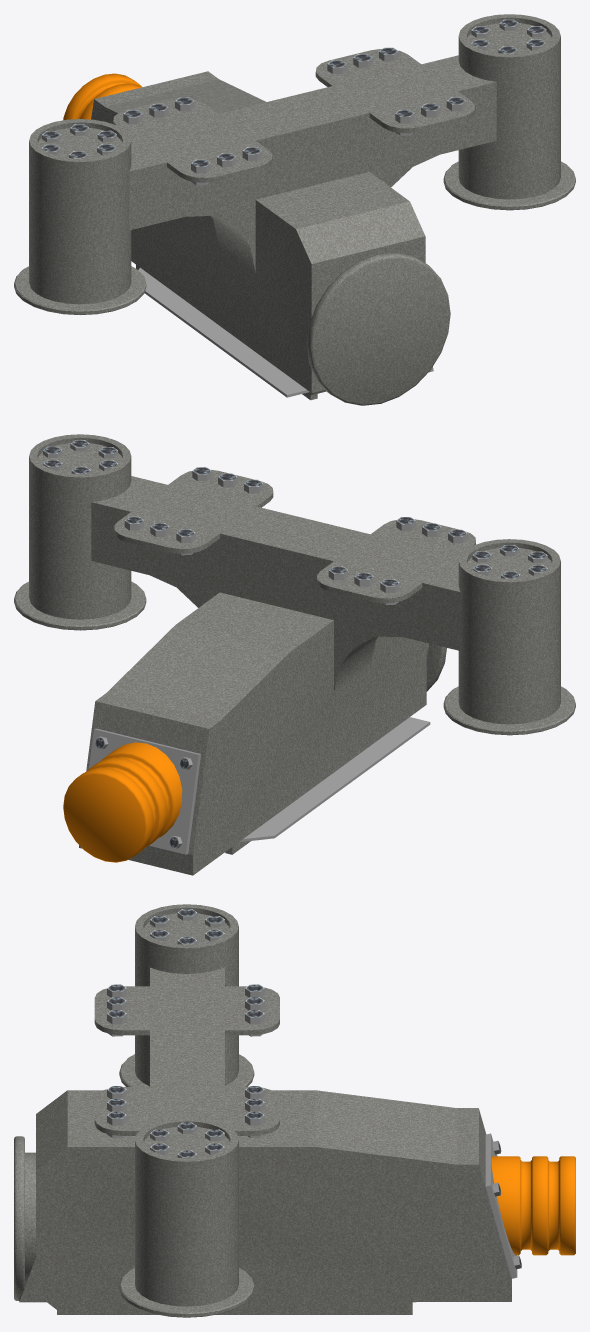
Rendered from Zerocar.dae.
3 renders of one model, top to bottom at view 1: azimuth 30°, elevation 25°; view 2: azimuth 150°, elevation 25°; view 3: azimuth 270°, elevation 25°, orthographic.
Visible parts, largest first — view 1: Zerocar_2 (×10); view 2: Zerocar_2 (×13); view 3: Zerocar_2 (×14).
Boxes of the visible parts, x1,y1,x2,y2 form: Zerocar_2 (×10): (14,14,575,405); Zerocar_2 (×13): (14,434,575,875); Zerocar_2 (×14): (14,904,575,1317).
Size of the model in its own units: 45.68 by 40.09 by 20.45.
6 materials, 3 textured.
